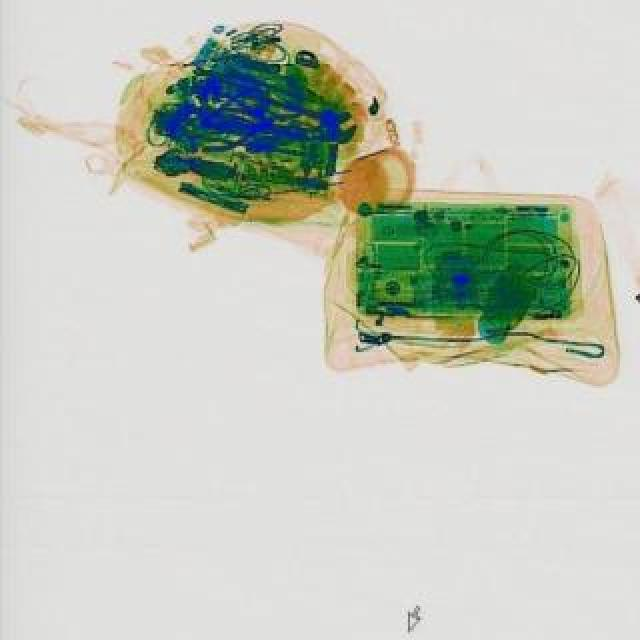scissors: (242, 108, 360, 168)
wrench: (200, 96, 306, 152)
